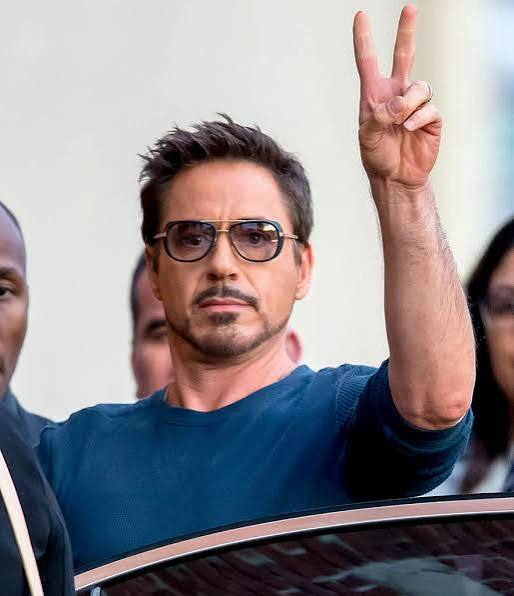peace_sign: (339, 1, 448, 190)
